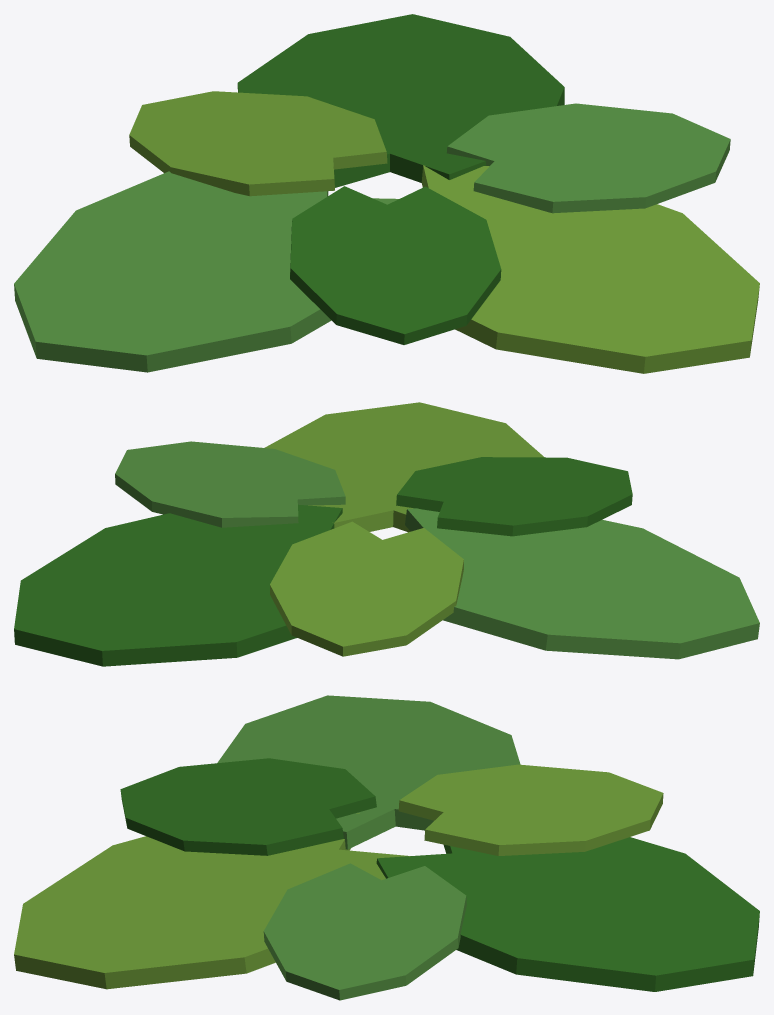
Rendered from lilypads 1.fbx.
3 views of the same model, one above another, from view 1: azimuth 30°, elevation 25°; view 2: azimuth 150°, elevation 25°; view 3: azimuth 270°, elevation 25° (orthographic). The views are drawn at different scales.
Parts seen in each view (by area): view 1: waterLily.004, waterLily.002, waterLily.005, waterLily.001, waterLily.006, waterLily.007; view 2: waterLily.005, waterLily.004, waterLily.007, waterLily.002, waterLily.006, waterLily.001; view 3: waterLily.005, waterLily.002, waterLily.004, waterLily.006, waterLily.001, waterLily.007.
Part boxes in pixels (x1,y1,x2,y2): waterLily.004: [14, 171, 398, 372]; waterLily.002: [421, 165, 759, 373]; waterLily.005: [237, 14, 564, 187]; waterLily.001: [290, 186, 501, 344]; waterLily.006: [446, 103, 730, 213]; waterLily.007: [129, 91, 387, 196]; waterLily.005: [14, 504, 342, 666]; waterLily.004: [405, 508, 759, 659]; waterLily.007: [270, 521, 463, 656]; waterLily.002: [264, 402, 544, 532]; waterLily.006: [115, 441, 345, 527]; waterLily.001: [396, 457, 632, 536]; waterLily.005: [376, 837, 759, 991]; waterLily.002: [14, 813, 410, 989]; waterLily.004: [217, 695, 520, 849]; waterLily.006: [263, 863, 466, 1000]; waterLily.001: [120, 758, 376, 855]; waterLily.007: [398, 764, 663, 855].
Size of the model in its own units: 750 by 84.59 by 740.
